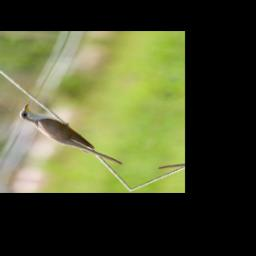Cuckoo: (4, 103, 145, 166)
